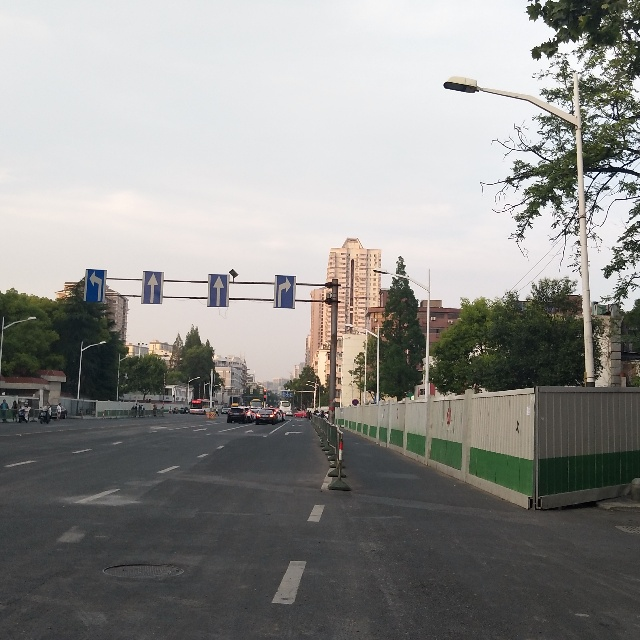left: (81, 265, 105, 301)
right: (276, 271, 294, 309)
straight: (208, 275, 231, 308), (147, 271, 162, 298)
